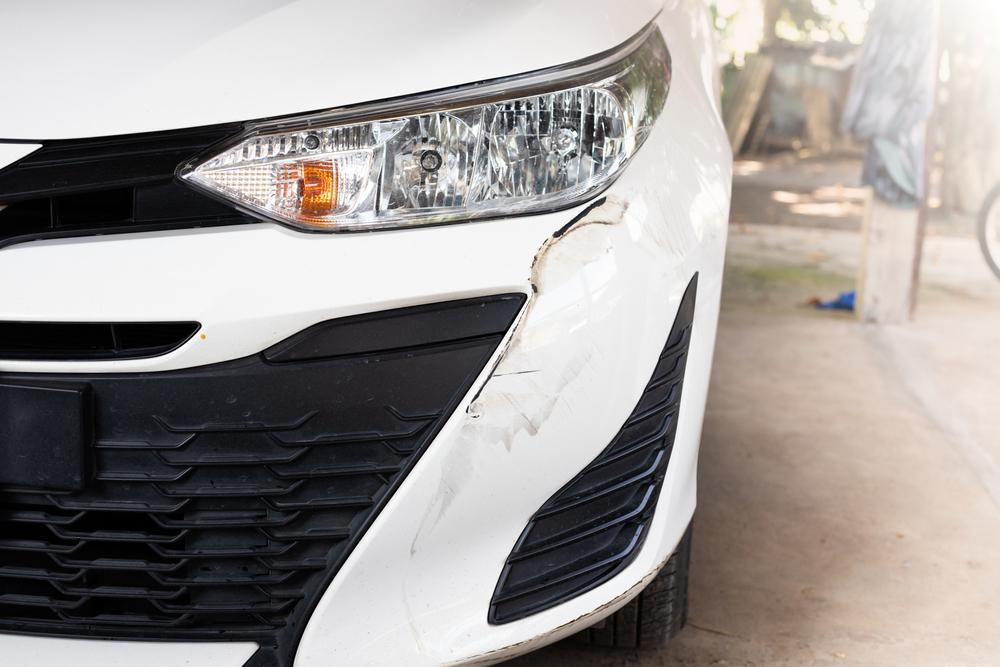scratch: (408, 187, 642, 550)
